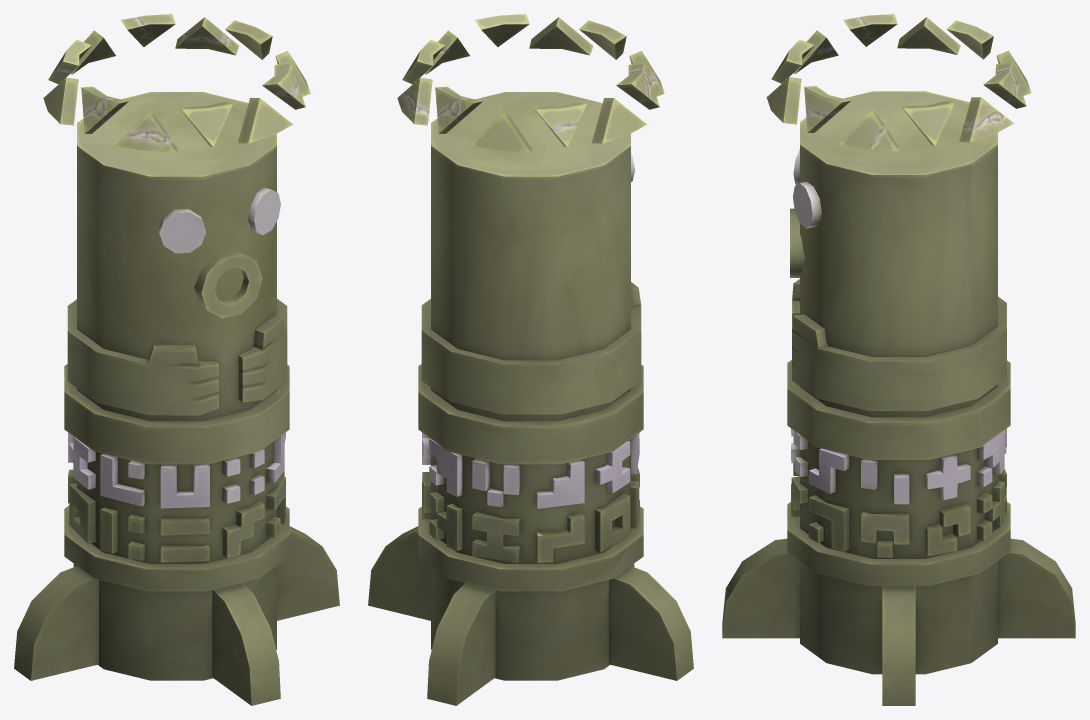
File: Totem_Plante.FBX
The picture shows the model from 3 angles, left to right: view 1: azimuth 30°, elevation 25°; view 2: azimuth 150°, elevation 25°; view 3: azimuth 270°, elevation 25°; orthographic projection.
Parts seen in each view (by area): view 1: Totem_04; view 2: Totem_04; view 3: Totem_04.
Boxes of the visible parts, x1,y1,x2,y2 form: Totem_04: (14, 14, 339, 705); Totem_04: (368, 14, 693, 705); Totem_04: (722, 14, 1075, 705).
Bounding box in the file's own units: 7.96 × 7.96 × 14.19.
